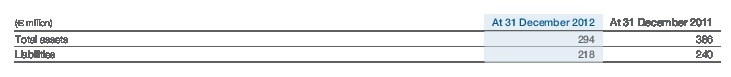table: (0, 0, 731, 77)
